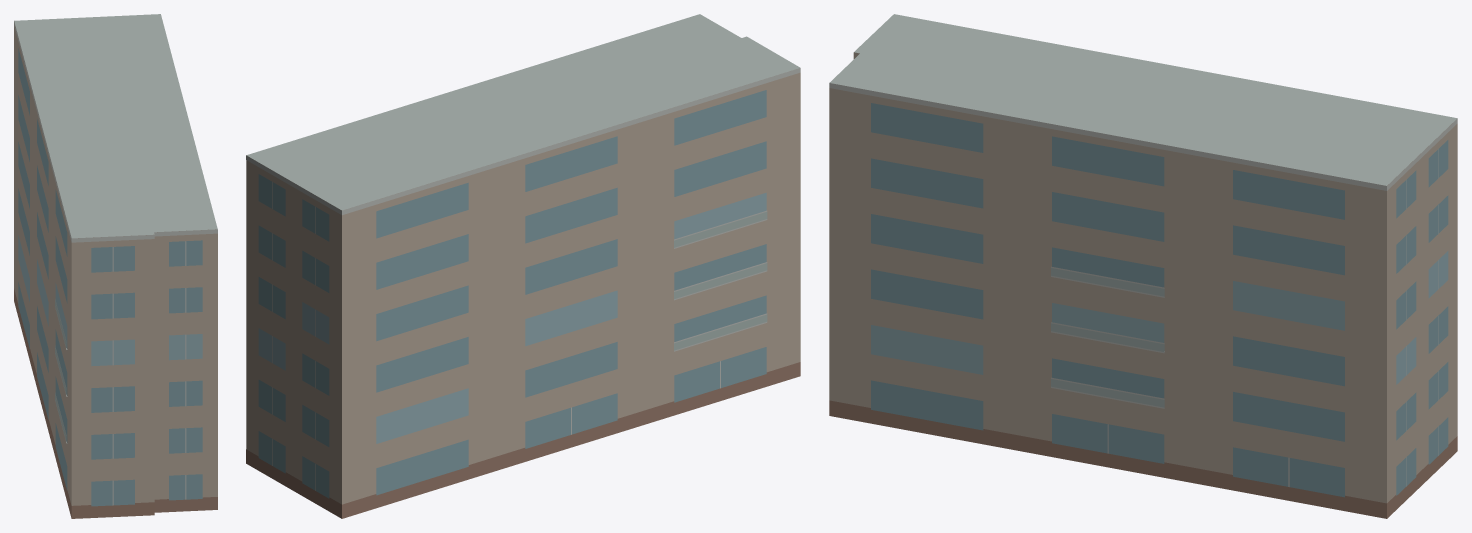
Rendered from survey-upis-32539194.glb.
3 views of the same model, side by side, from view 1: azimuth 30°, elevation 25°; view 2: azimuth 150°, elevation 25°; view 3: azimuth 270°, elevation 25° (orthographic). The views are drawn at different scales.
Parts seen in each view (by area): view 1: survey-upis-32539194.tmp; view 2: survey-upis-32539194.tmp; view 3: survey-upis-32539194.tmp.
Part boxes in pixels (x1,y1,x2,y2): survey-upis-32539194.tmp: (14,14,217,518); survey-upis-32539194.tmp: (246,14,800,518); survey-upis-32539194.tmp: (829,14,1457,518).
Bounding box in the file's own units: 17.73 × 16 × 27.37.
